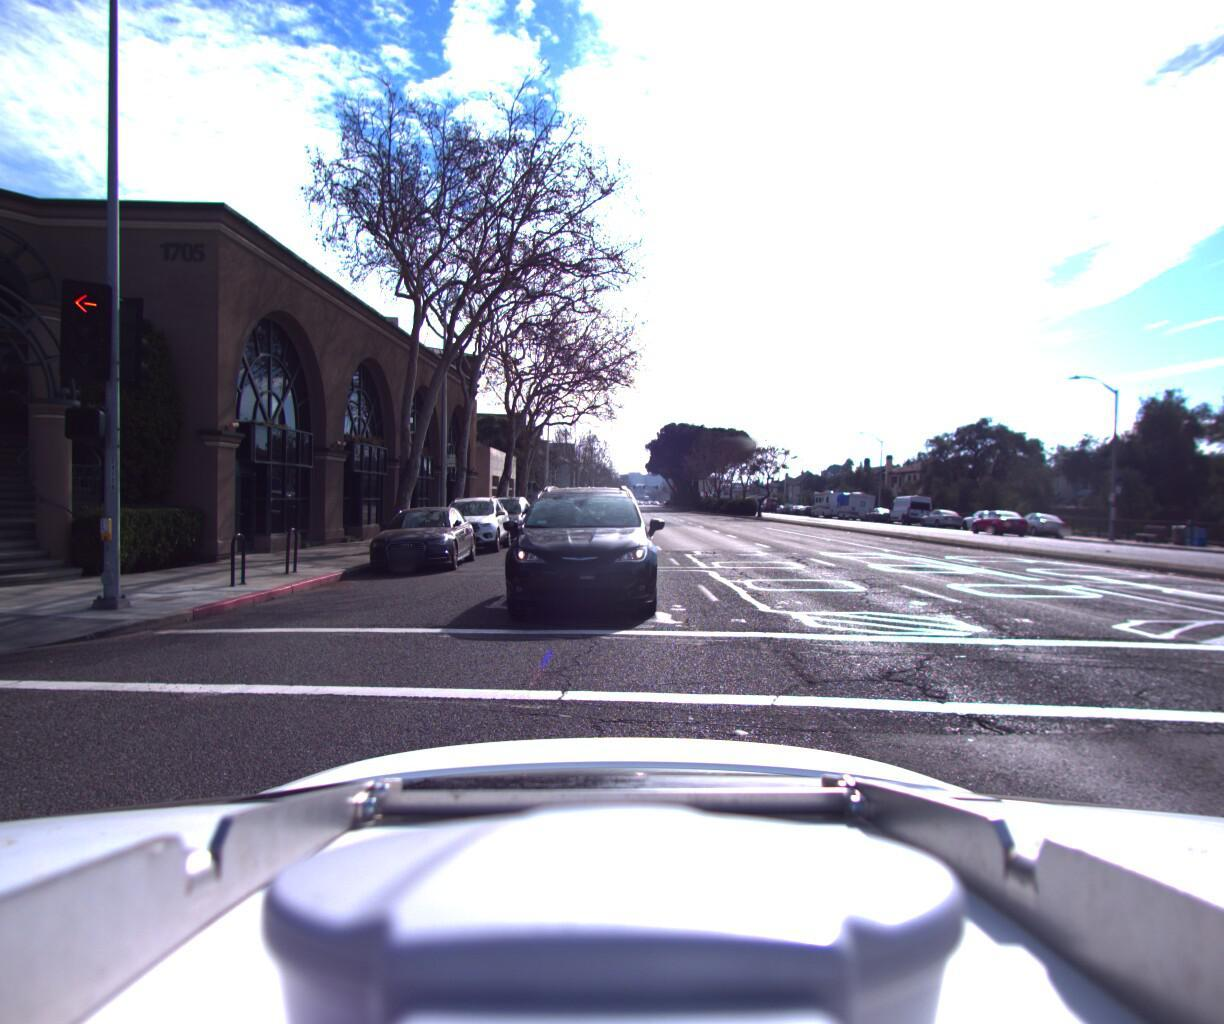car: (488, 473, 658, 625), (371, 500, 482, 578), (431, 489, 515, 553), (470, 490, 539, 543), (960, 504, 1026, 533), (1008, 508, 1072, 537), (886, 492, 934, 524), (917, 505, 967, 527)
